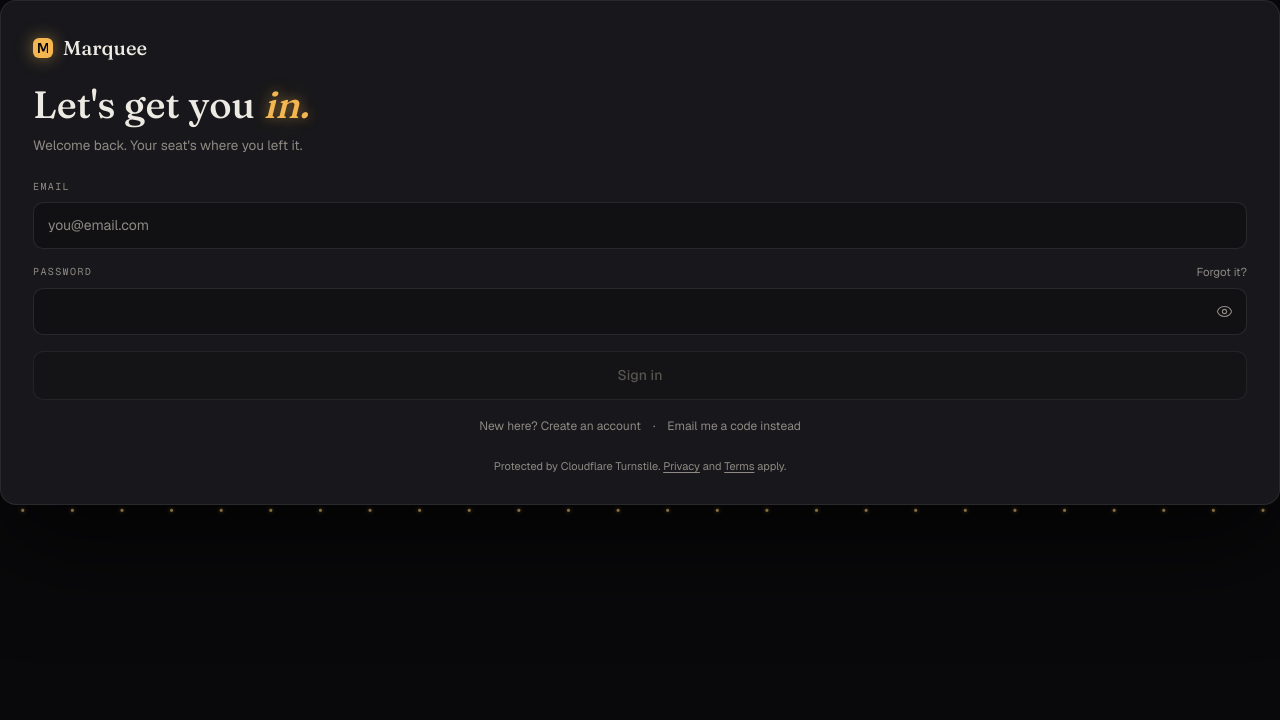
Scenario: LoginForm with a password › creates an account: the code goes out without the password, which rides along with the code
This screenshot has width=1280, height=720.
Click the button "New here? Create an account" at [560, 426], box [475, 410, 645, 442]
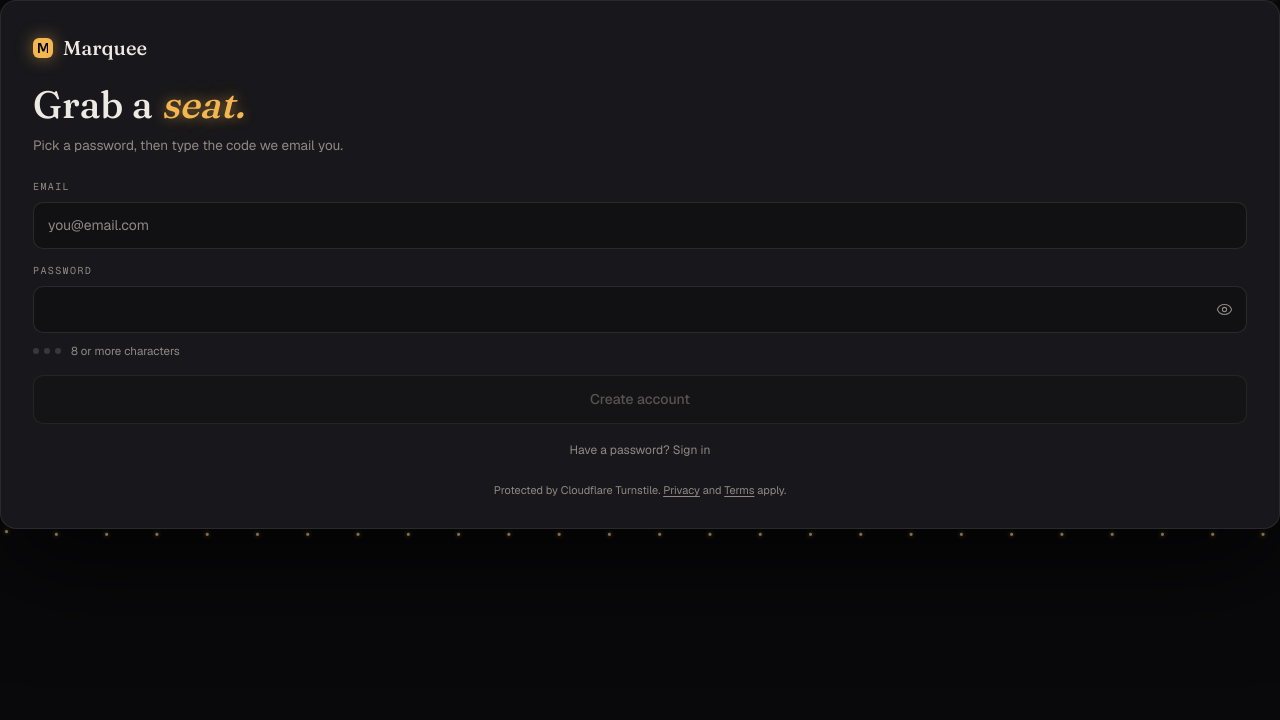
Type "someone@example.com" into the field labelled "Email" at [640, 226], box [33, 202, 1247, 249]
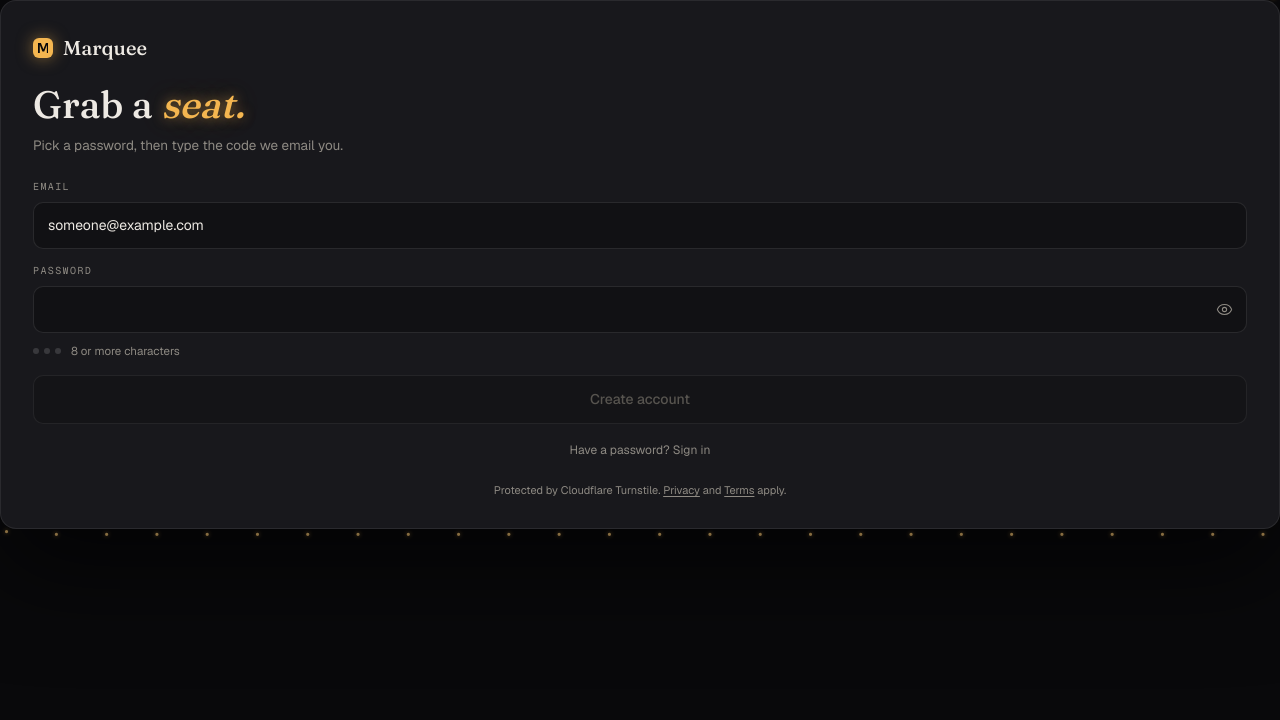
Type "seven77" into the password field labelled "Password" at [640, 310], box [33, 286, 1247, 333]
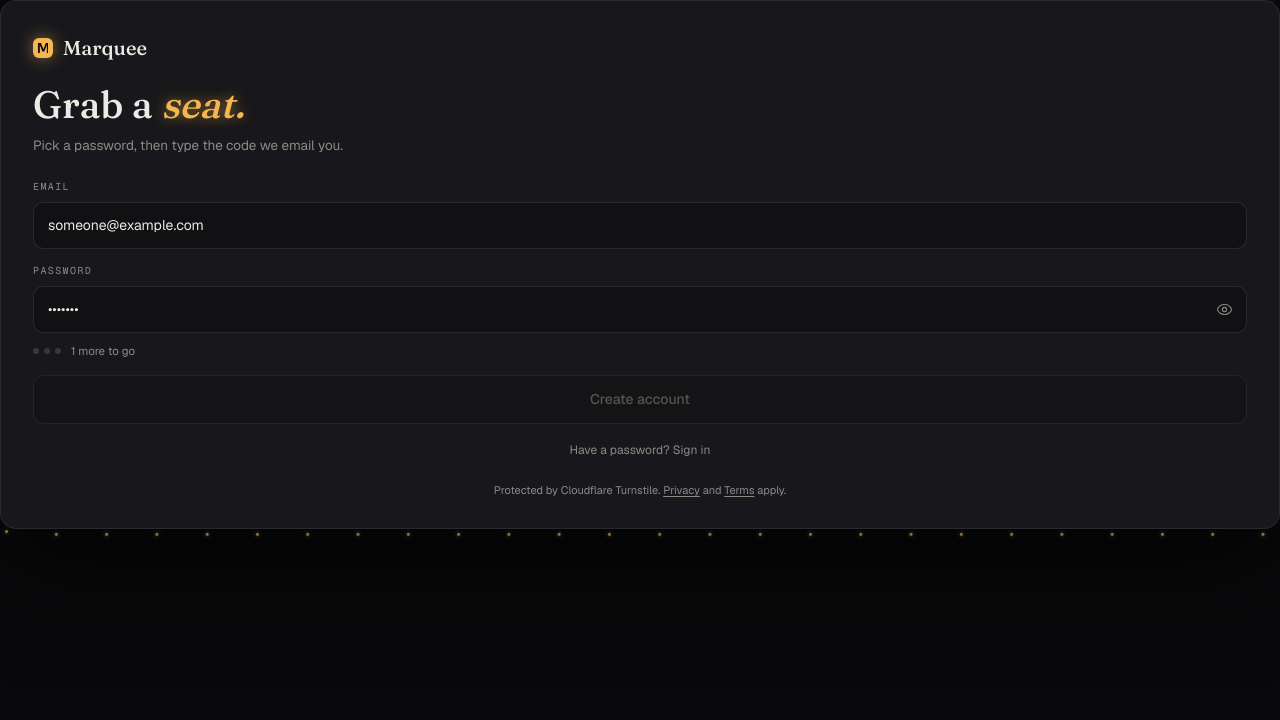
Check: the button "Create account" is disabled, box [33, 375, 1247, 424]
Check: the text "1 more to go" is shown, box [71, 342, 135, 359]
Type "popcorn-row-7" into the password field labelled "Password" at [640, 310], box [33, 286, 1247, 333]
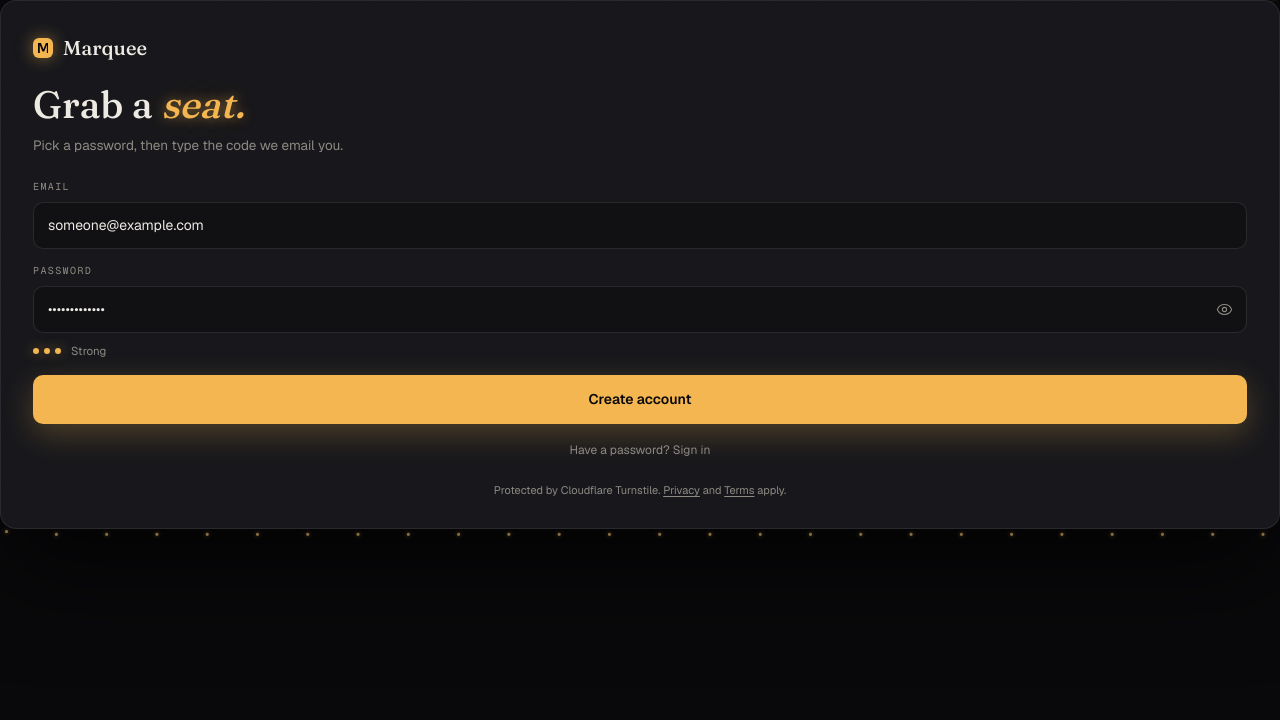
Click the button "Create account" at [640, 400], box [33, 375, 1247, 424]
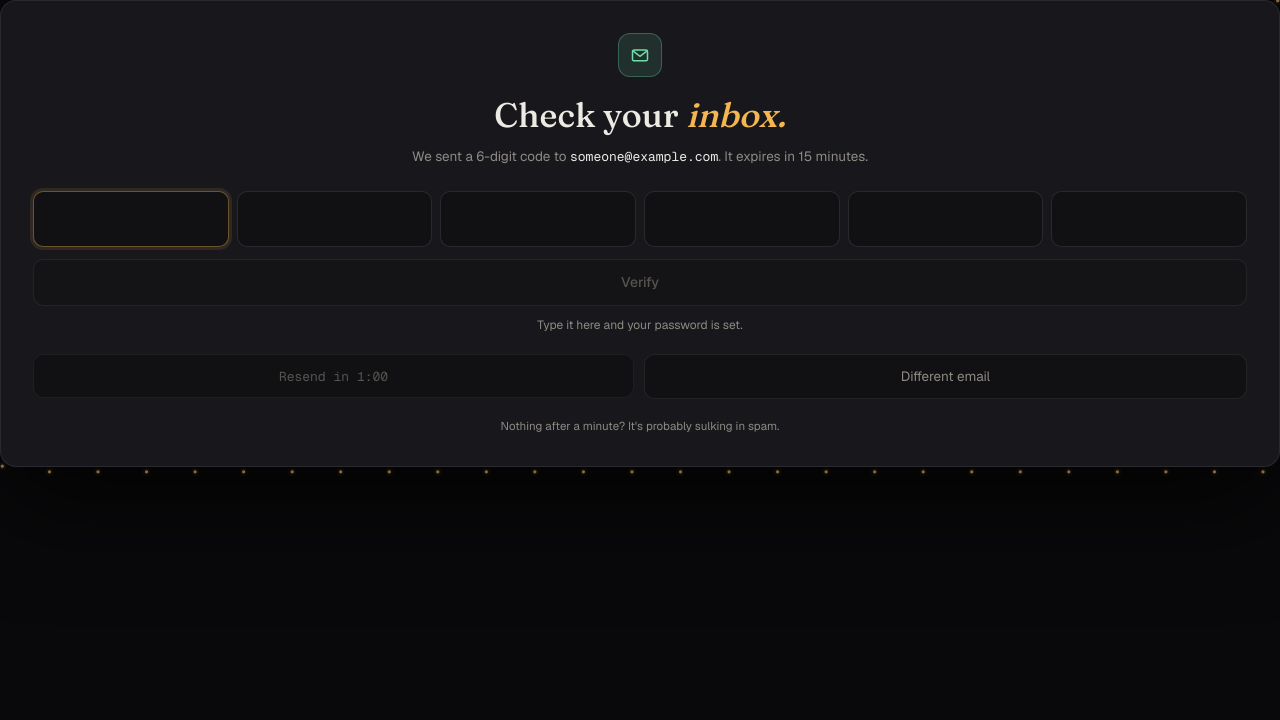
Check: the text "Type it here and your password is set." is shown, box [537, 317, 743, 333]
